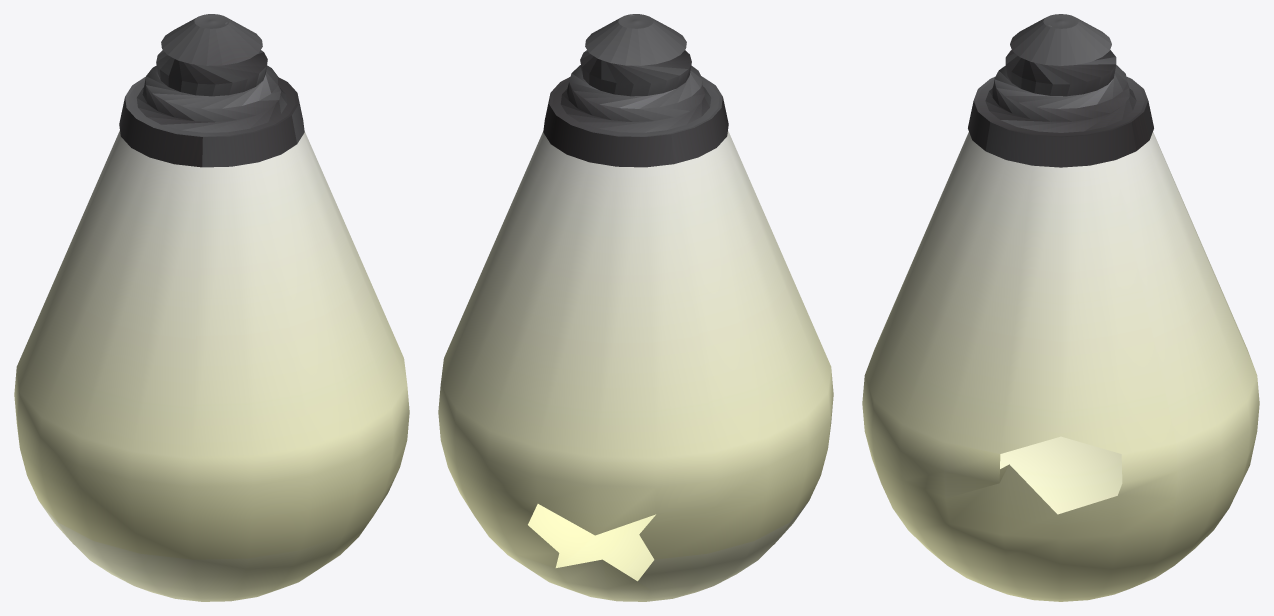
Rendered from bombitacontextura.fbx.
The picture shows the model from 3 angles, left to right: view 1: azimuth 30°, elevation 25°; view 2: azimuth 150°, elevation 25°; view 3: azimuth 270°, elevation 25°; orthographic projection.
Visible parts, largest first — view 1: pSphere1; view 2: pSphere1; view 3: pSphere1.
Boxes of the visible parts, bbox=[...] form: pSphere1: bbox=[14, 14, 409, 601]; pSphere1: bbox=[438, 14, 833, 601]; pSphere1: bbox=[862, 14, 1259, 601].
Bounding box in the file's own units: 19.01 × 29.26 × 18.74.
1 material, 1 textured.
